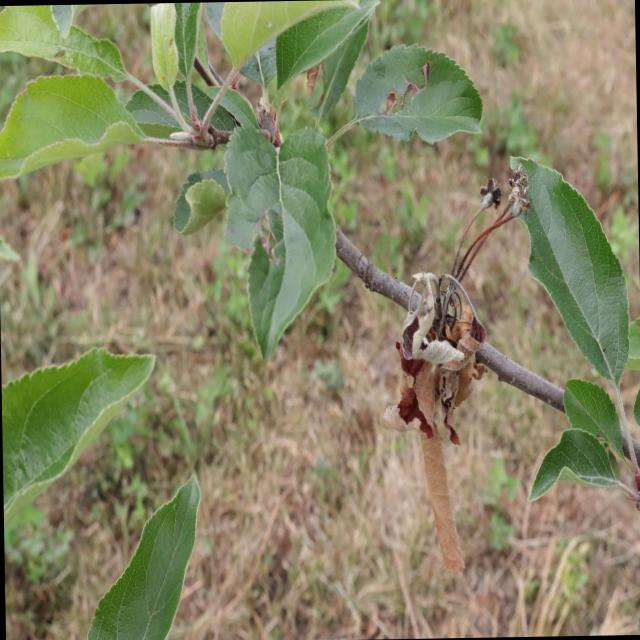-FireBlight-: (391, 260, 492, 581)
